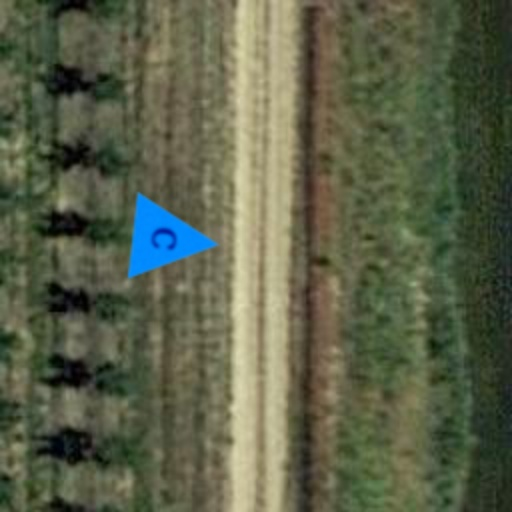triangle: (128, 192, 224, 288)
